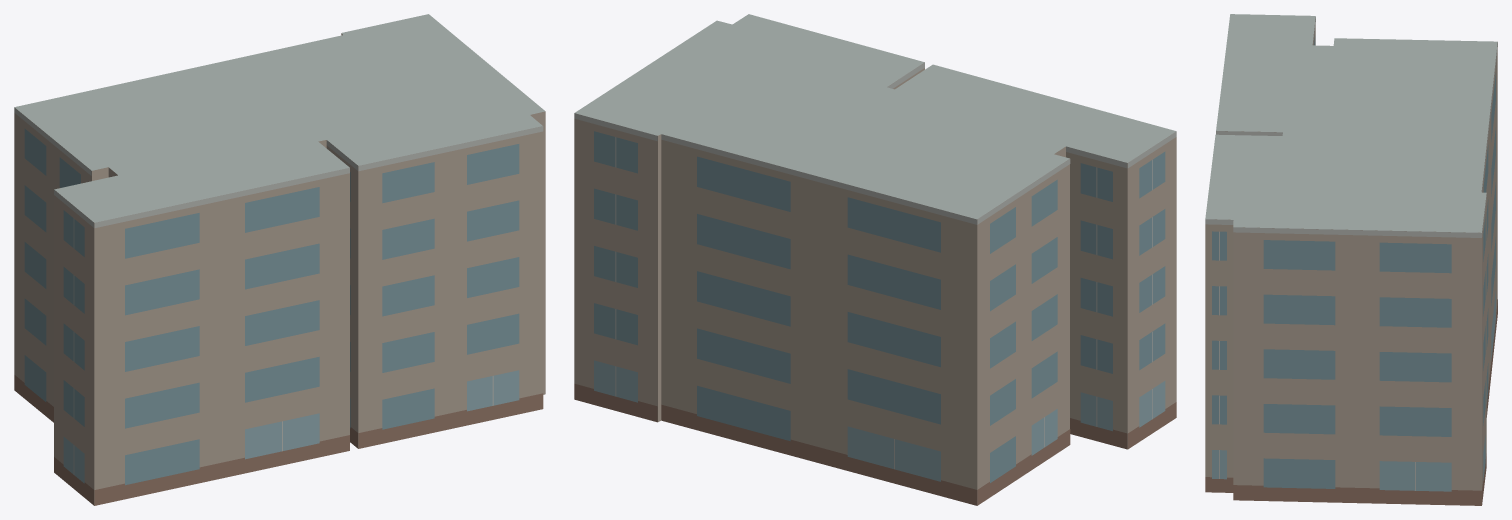
Rendered from survey-upis-32652778.glb.
3 renders of one model, left to right at view 1: azimuth 30°, elevation 25°; view 2: azimuth 150°, elevation 25°; view 3: azimuth 270°, elevation 25°, orthographic. The views are drawn at different scales.
Visible parts, largest first — view 1: survey-upis-32652778.tmp; view 2: survey-upis-32652778.tmp; view 3: survey-upis-32652778.tmp.
Boxes of the visible parts, bbox=[...] form: survey-upis-32652778.tmp: bbox=[14, 14, 545, 505]; survey-upis-32652778.tmp: bbox=[574, 14, 1176, 505]; survey-upis-32652778.tmp: bbox=[1205, 14, 1497, 505].
Bounding box in the file's own units: 21.83 × 12.7 × 12.34.
